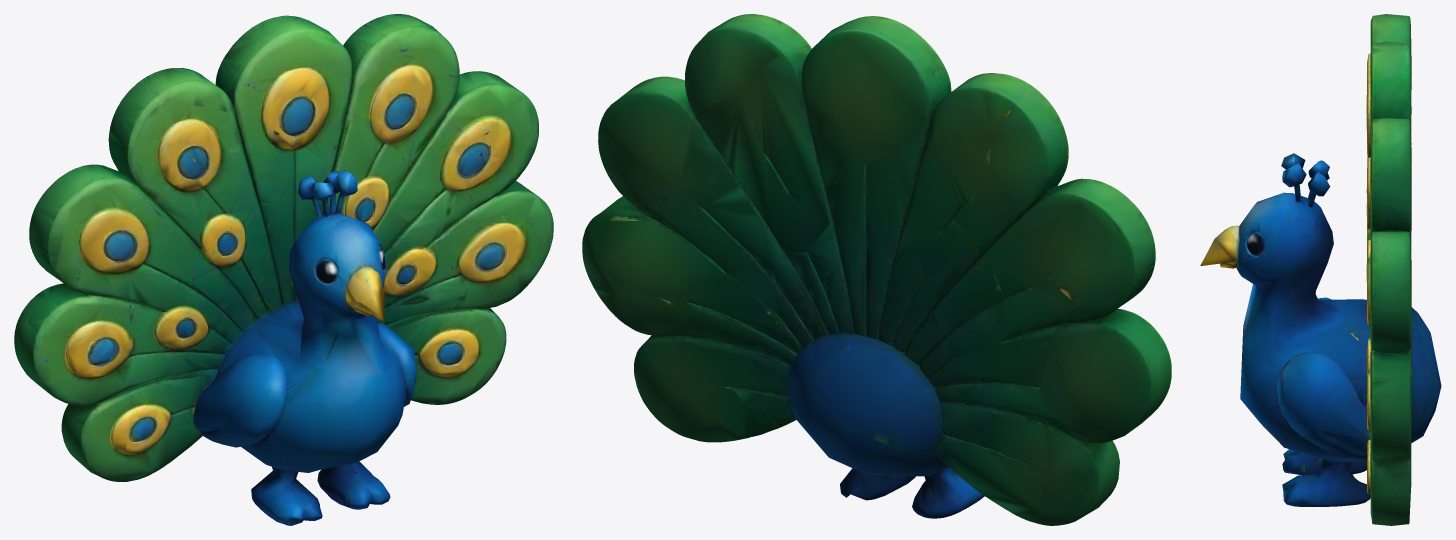
The model's file is peacock_pbr.glb.
3 views of the same model, side by side, from view 1: azimuth 30°, elevation 25°; view 2: azimuth 150°, elevation 25°; view 3: azimuth 270°, elevation 25° (orthographic). The views are drawn at different scales.
Parts seen in each view (by area): view 1: model.014; view 2: model.014; view 3: model.014.
Part boxes in pixels (box(x1,y1,x2,y2)): model.014: box(14, 14, 553, 525); model.014: box(582, 14, 1171, 525); model.014: box(1200, 14, 1441, 525).
Size of the model in its own units: 1.77 by 1.46 by 0.7377.
Materials: 1 (1 with a texture image).
